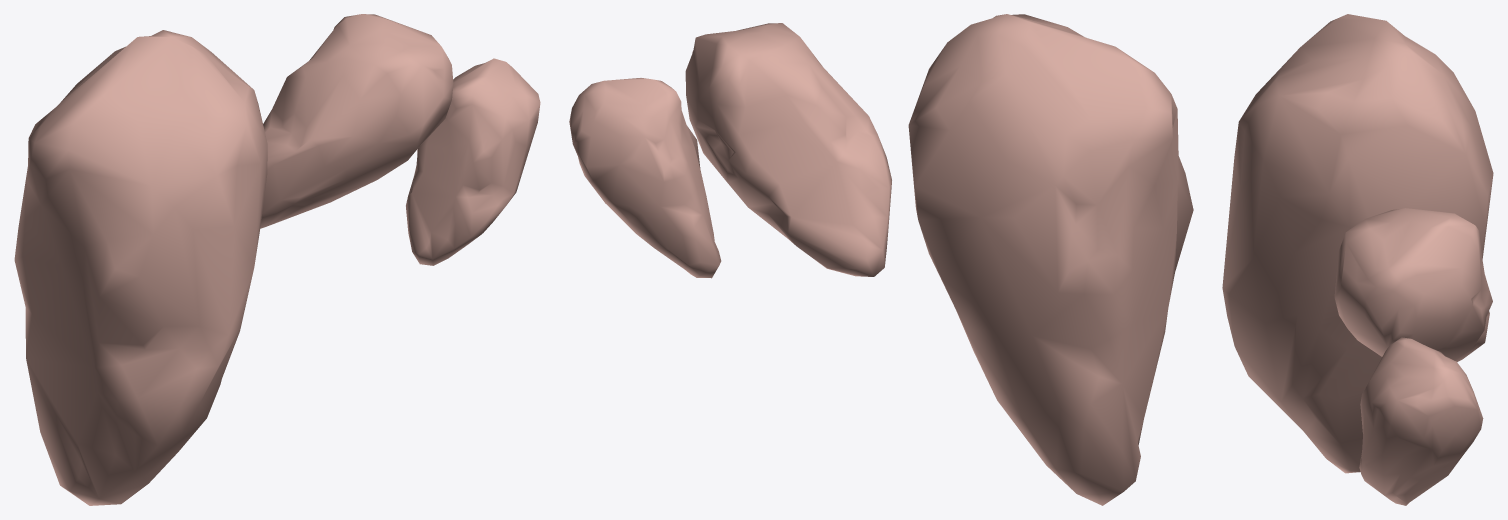
File: rock-7.glb
3 views of the same model, side by side, from view 1: azimuth 30°, elevation 25°; view 2: azimuth 150°, elevation 25°; view 3: azimuth 270°, elevation 25° (orthographic). The views are drawn at different scales.
Visible parts, largest first — view 1: rock-7; view 2: rock-7; view 3: rock-7.
Boxes of the visible parts, x1,y1,x2,y2 form: rock-7: (14, 14, 540, 505); rock-7: (569, 14, 1193, 505); rock-7: (1222, 14, 1493, 505).
Size of the model in its own units: 0.55 by 0.4421 by 0.2288.
